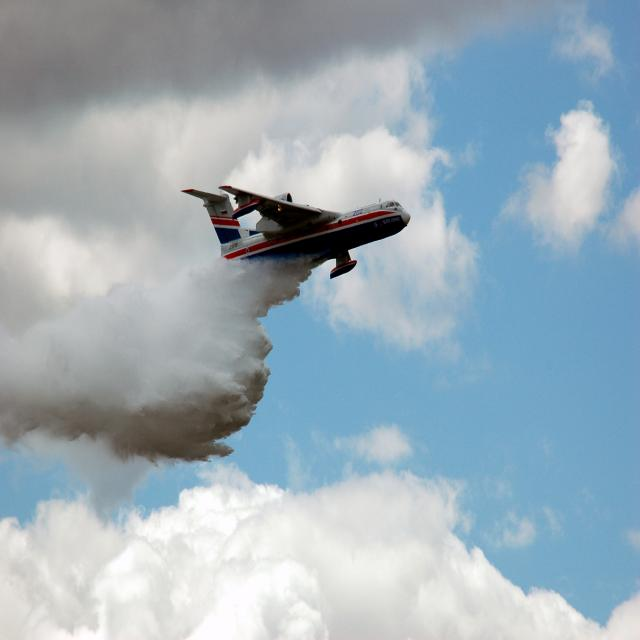MIL_Plane: (180, 184, 411, 279)
